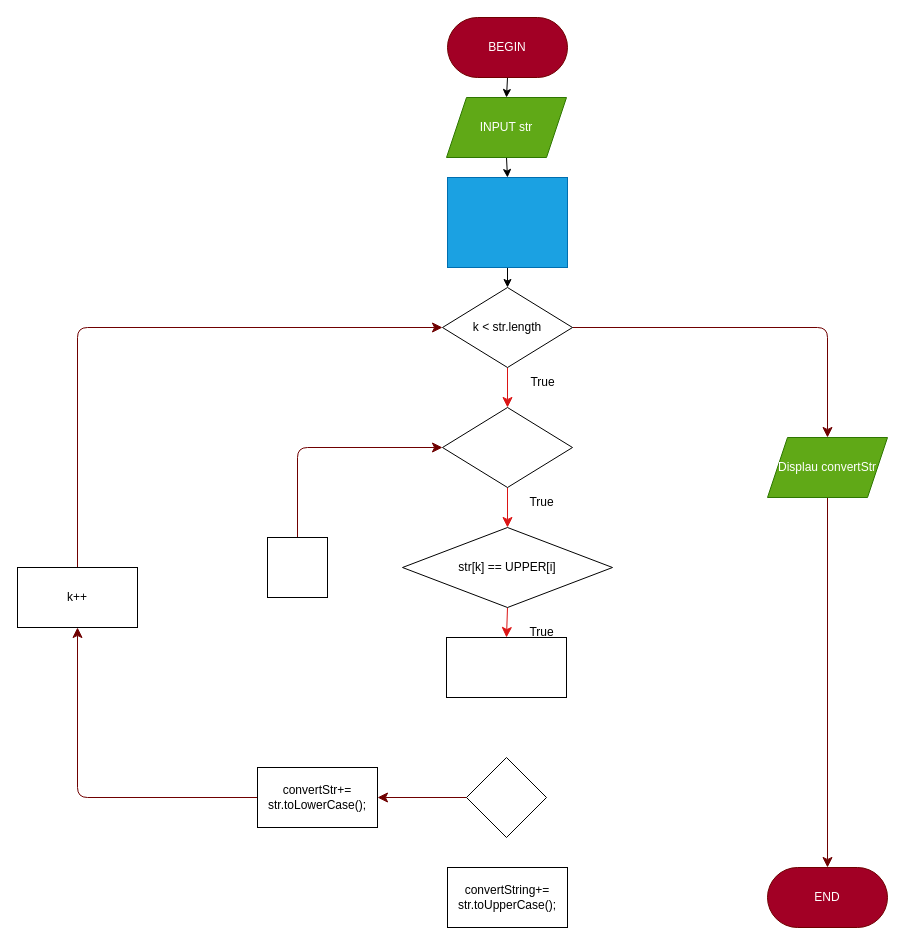
Some shapes in this 905 by 945 pixel diagram are drawn without their labels. The centre of each missing label's shape, as x and y in pixels:
i < UPPER.length: point (507, 447)
i++: point (297, 567)
isUpper: point (506, 797)
isUpper = true: point (506, 667)
k= 0 i = 0 UPPER ="ABC...Z" LOWER = "abc..z" isUpper = false convertStr = " ": point (507, 222)
